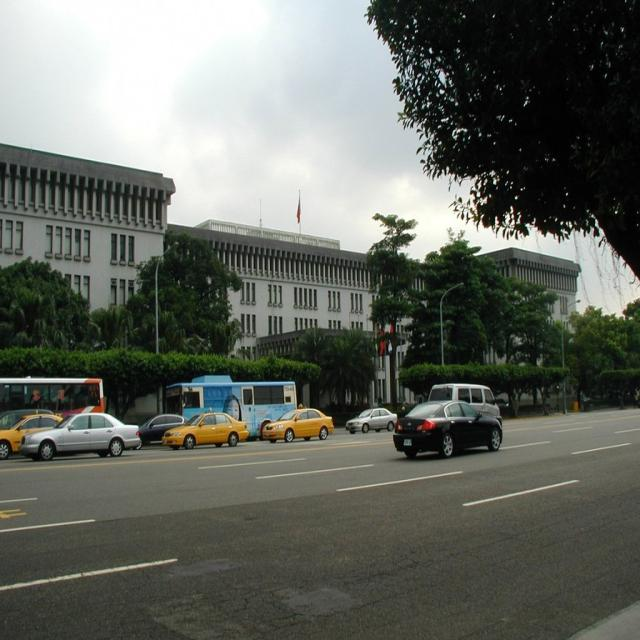car: (395, 399, 504, 458), (160, 410, 248, 449), (260, 405, 334, 443)
